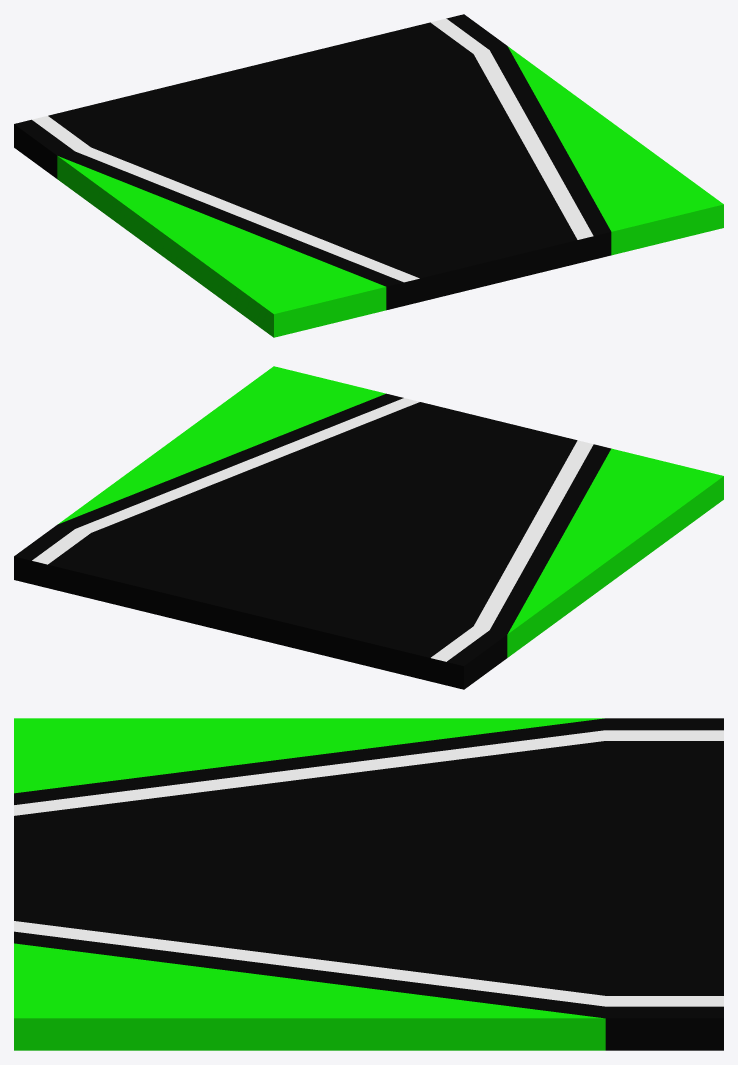
The model's file is bigtosmall_export.fbx.
3 renders of one model, top to bottom at view 1: azimuth 30°, elevation 25°; view 2: azimuth 150°, elevation 25°; view 3: azimuth 270°, elevation 25°, orthographic. The views are drawn at different scales.
Parts seen in each view (by area): view 1: Road, Grass1, Grass2; view 2: Road, Grass1, Grass2; view 3: Road, Grass2, Grass1.
Boxes of the visible parts, x1,y1,x2,y2 form: Road: [14, 14, 611, 310]; Grass1: [57, 156, 386, 337]; Grass2: [508, 46, 723, 255]; Road: [14, 393, 611, 689]; Grass1: [507, 448, 723, 657]; Grass2: [58, 366, 385, 524]; Road: [14, 718, 723, 1050]; Grass2: [14, 943, 605, 1050]; Grass1: [14, 718, 604, 793].
Size of what is drawn, in the model's own units: 2000 by 100 by 2000.
